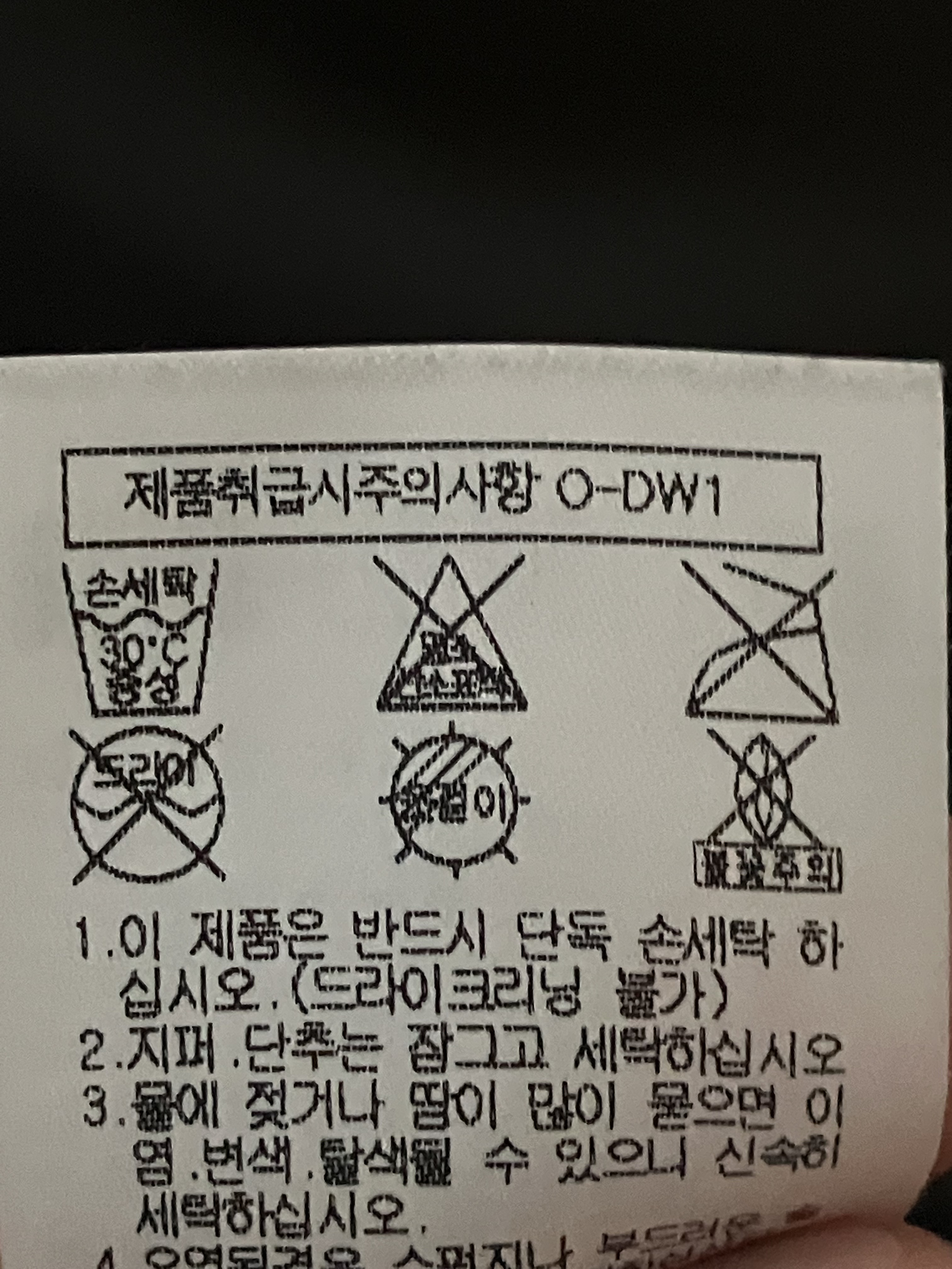KR_hand_wash_30_neutral: (52, 555, 231, 720)
KR_hang_dry_in_shade: (375, 730, 532, 880)
KR_no_bleach: (360, 545, 540, 722)
KR_no_dry_clean: (51, 723, 238, 883)
KR_no_iron: (678, 558, 847, 730)
